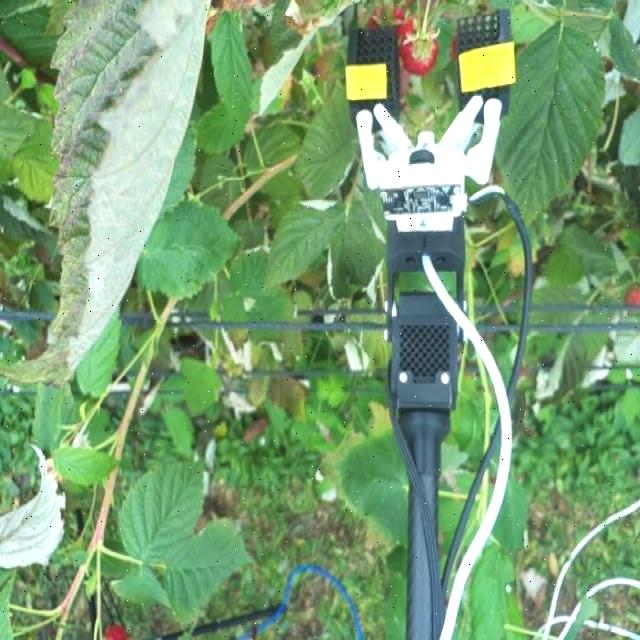Riped berries: (396, 13, 440, 76)
